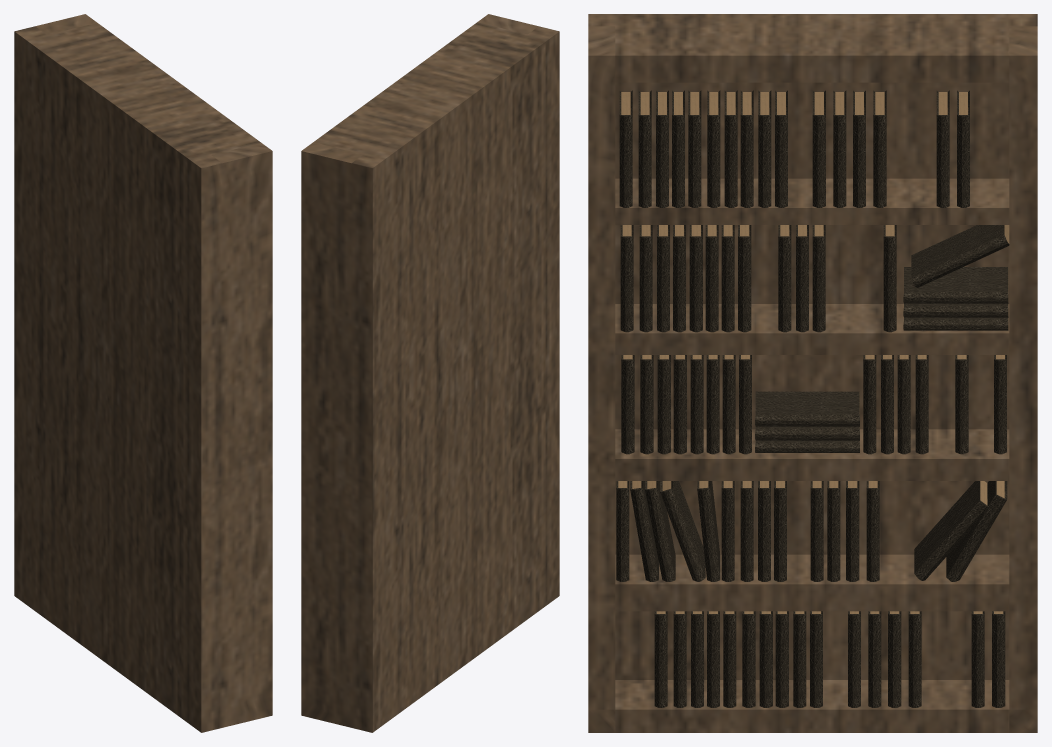
File: Bookcase varient 4.fbx
The picture shows the model from 3 angles, left to right: view 1: azimuth 30°, elevation 25°; view 2: azimuth 150°, elevation 25°; view 3: azimuth 270°, elevation 25°; orthographic projection. The views are drawn at different scales.
Parts seen in each view (by area): view 1: Cube; view 2: Cube; view 3: Cube, Cube.005.
Part boxes in pixels (left/top/right/bottom): Cube: left=14, top=14, right=272, bottom=732; Cube: left=301, top=14, right=559, bottom=732; Cube: left=588, top=14, right=1037, bottom=732; Cube.005: left=616, top=90, right=1009, bottom=707.
Bounding box in the file's own units: 189 × 1431 × 860.
